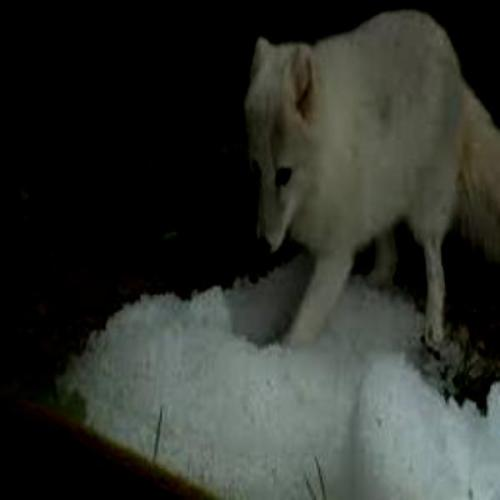arctic_fox-endangered: (246, 12, 491, 340)
